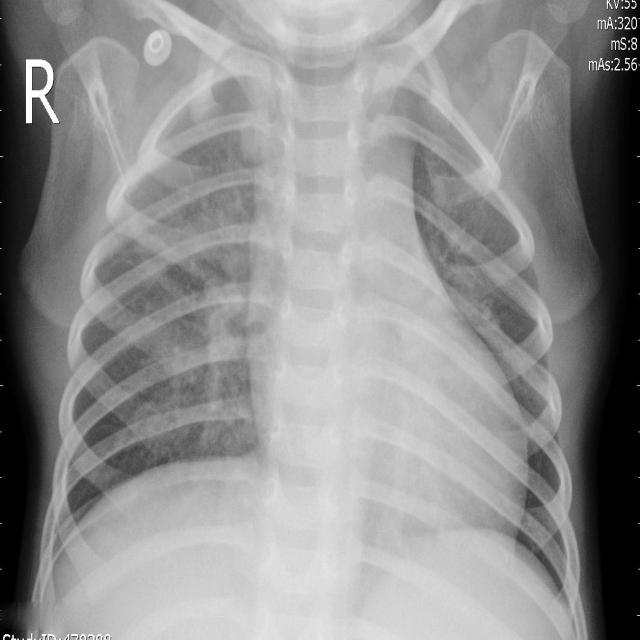low-pneumonia: (170, 244, 258, 455), (435, 213, 498, 362)
